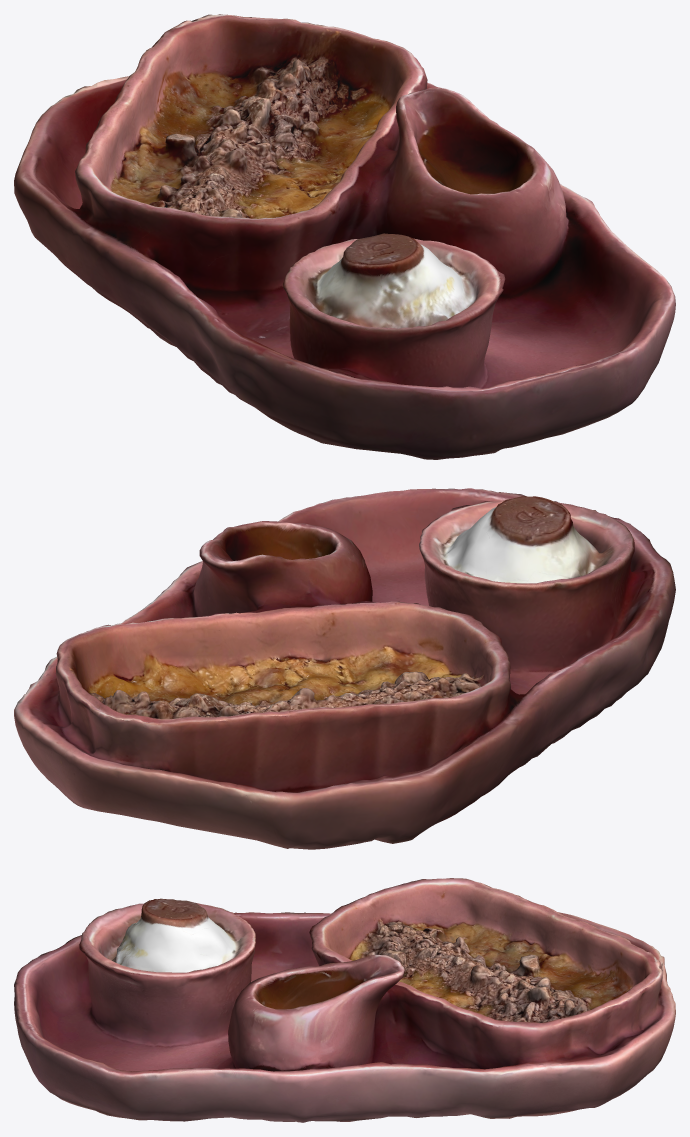
The picture shows the model from 3 angles, top to bottom: view 1: azimuth 30°, elevation 25°; view 2: azimuth 150°, elevation 25°; view 3: azimuth 270°, elevation 25°; orthographic projection. The views are drawn at different scales.
Parts seen in each view (by area): view 1: mesh; view 2: mesh; view 3: mesh.
Part boxes in pixels (bbox=[...]): mesh: bbox=[14, 14, 675, 459]; mesh: bbox=[14, 488, 675, 849]; mesh: bbox=[14, 878, 675, 1122].
Size of the model in its own units: 0.1727 by 0.0668 by 0.2849.
1 material, 1 textured.
